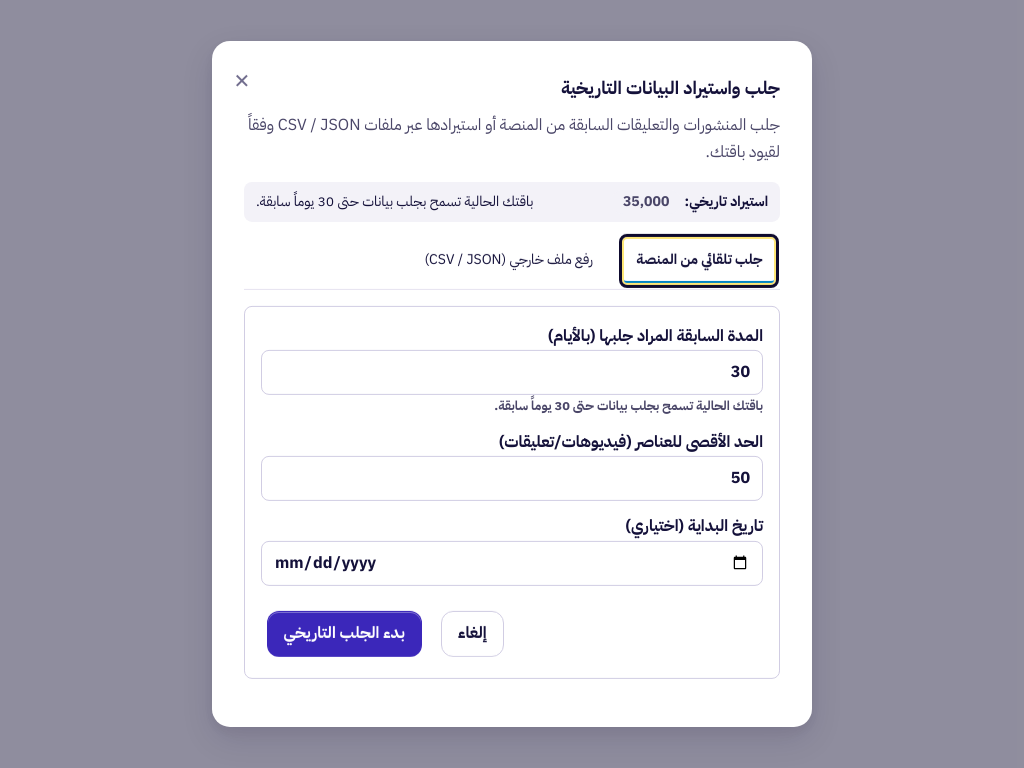
Test case: HistoricalImportModal › warns if days back exceeds plan limit
Replace the text in the number field with test id "input-days-back" with "60" at (512, 373), box [261,350,763,395]
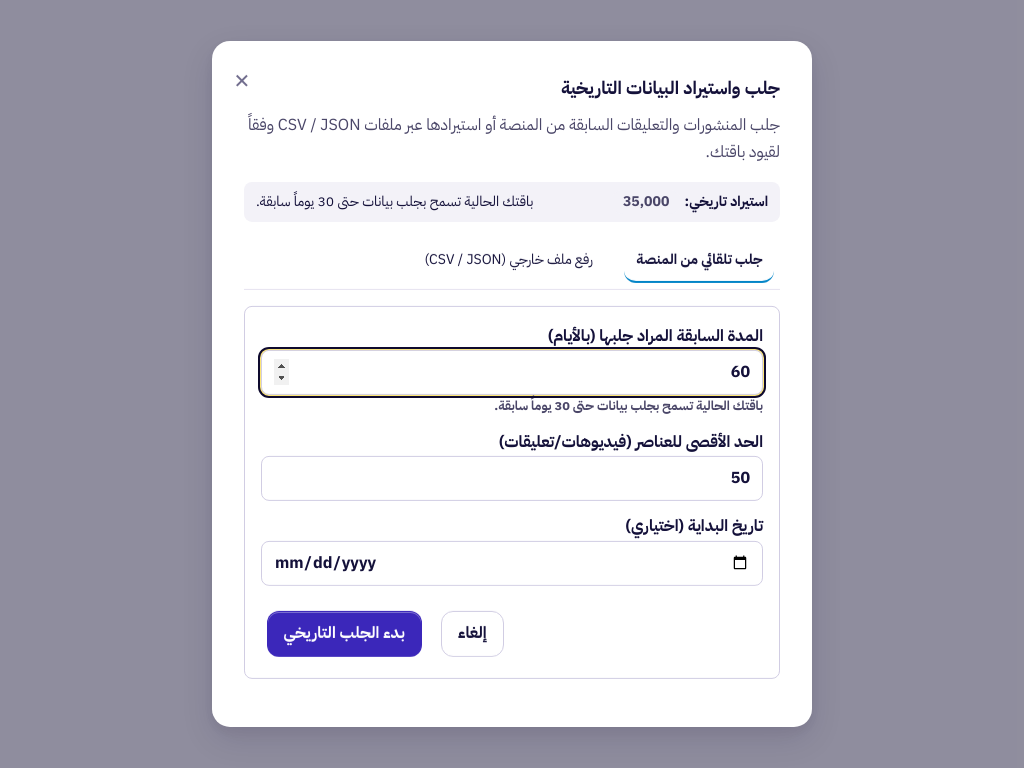
Click the button with test id "btn-submit-sync" at (344, 634), box [267,611,422,656]
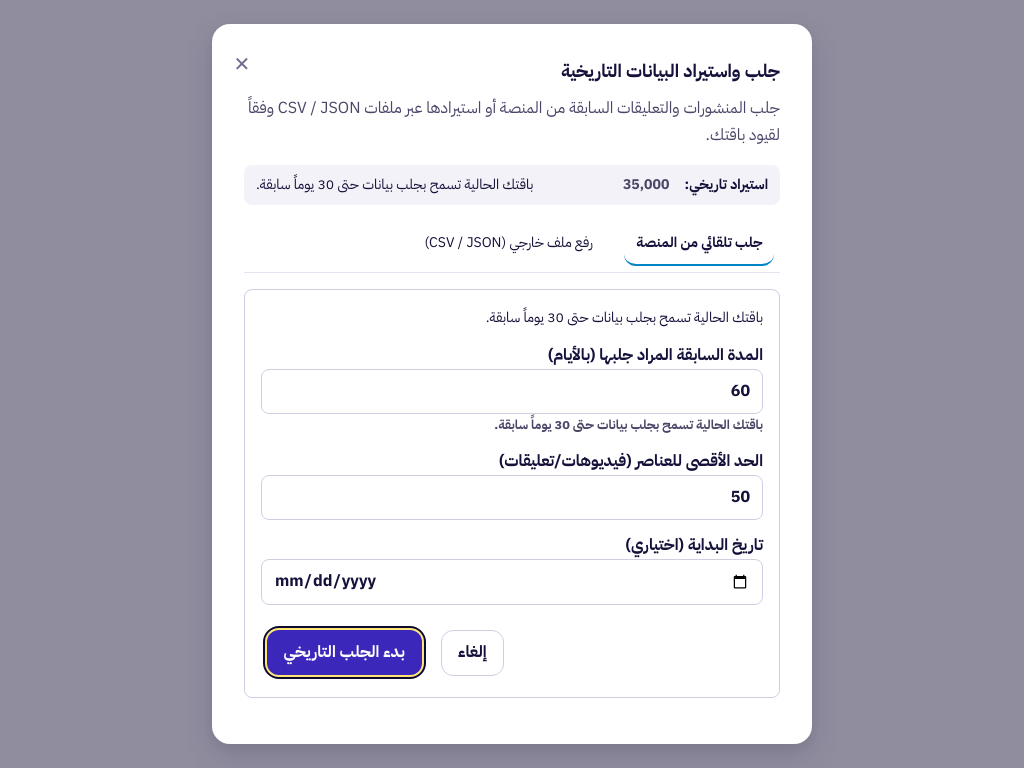
Check: the message "باقتك الحالية تسمح بجلب بيانات حتى 30 يوماً سابقة." is shown, box [486,307,763,328]
